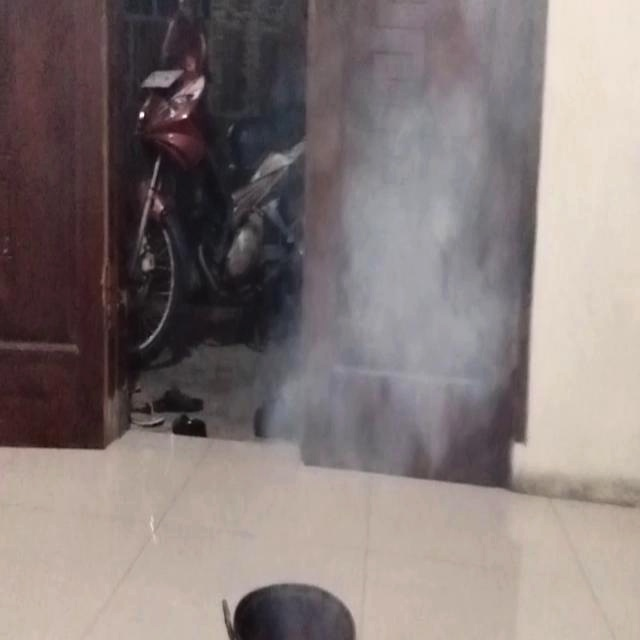smoke: (271, 4, 593, 315), (198, 321, 558, 569)
